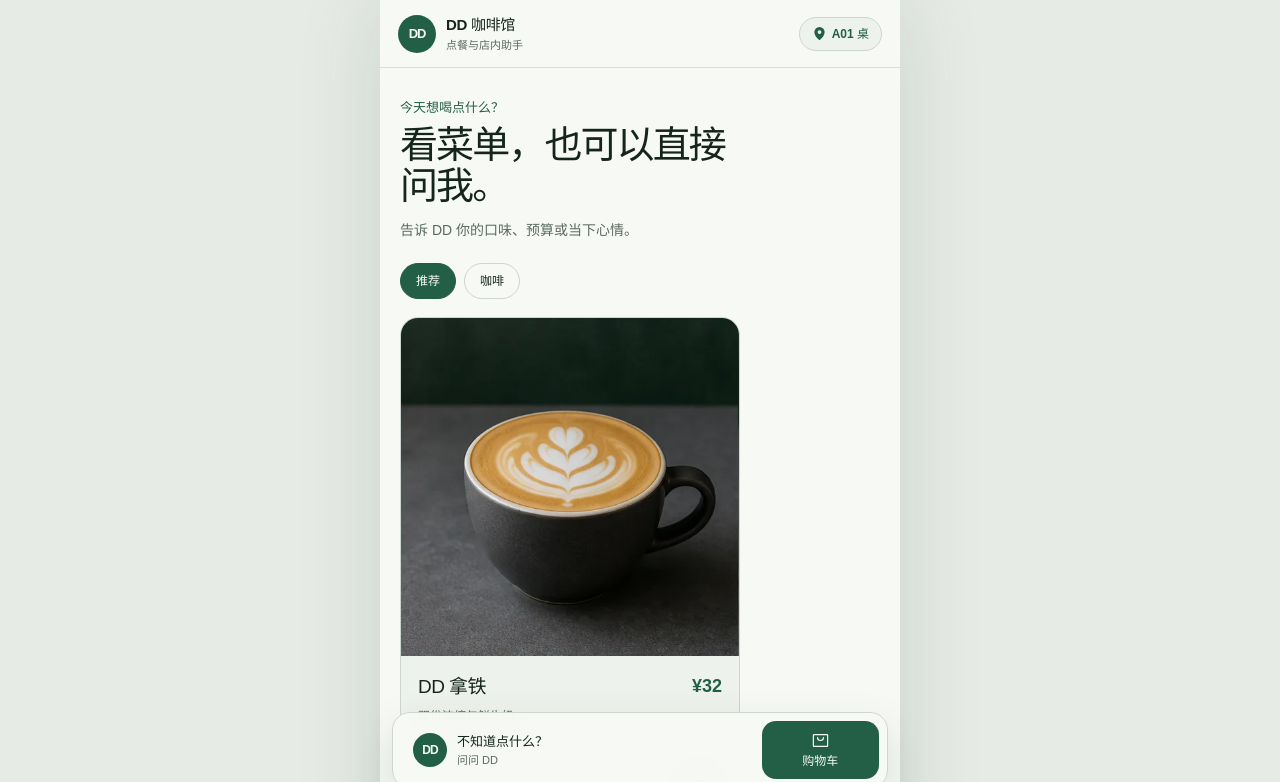
Test: App › loads the menu and opens the conversational ordering panel
Check: the heading "看菜单，也可以直接问我。" is shown, box [400,124,760,207]
Check: the heading "DD 拿铁" is shown, box [418,676,486,697]
Click the button "DD 不知道点什么？ 问问 DD": x=430, y=750 [401,721,754,779]
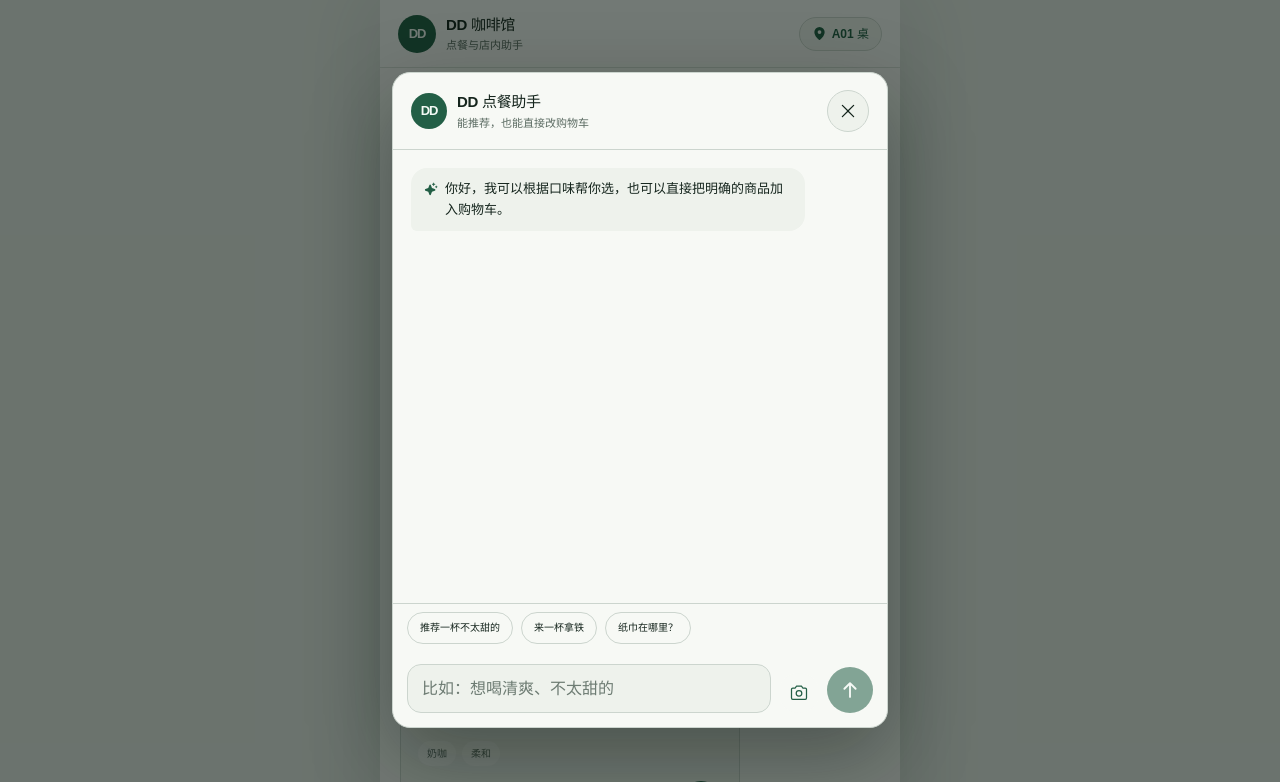
Check: the dialog "DD 点餐助手" is shown, box [392,72,888,728]
